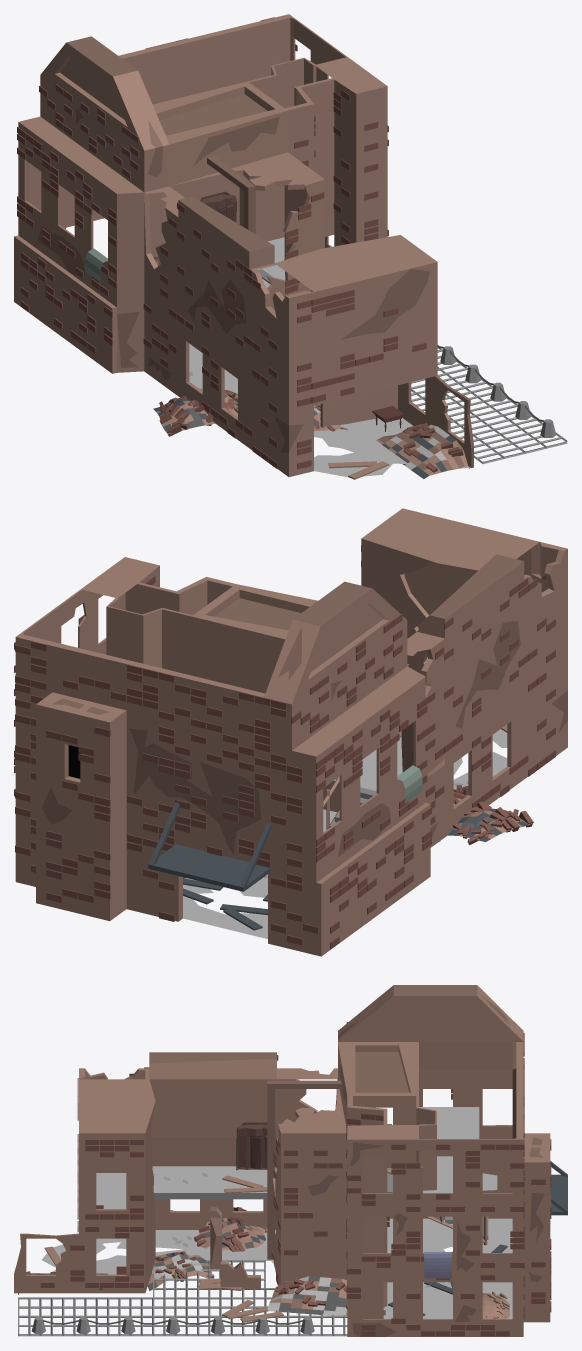
The model's file is Ruined_Block.fbx.
3 renders of one model, top to bottom at view 1: azimuth 30°, elevation 25°; view 2: azimuth 150°, elevation 25°; view 3: azimuth 270°, elevation 25°, orthographic. The views are drawn at different scales.
Parts seen in each view (by area): view 1: Top, Bottom, Floor; view 2: Top, Bottom, Floor; view 3: Top, Bottom, Floor.
Part boxes in pixels (x1,y1,x2,y2): Top: (17,14,437,411); Bottom: (14,185,567,479); Floor: (187,255,437,409); Top: (14,508,567,883); Bottom: (15,620,567,956); Floor: (326,657,567,802); Top: (77,985,551,1281); Bottom: (14,1122,567,1336); Floor: (96,1166,276,1208).
Size of the model in its own units: 11.66 by 10.62 by 20.95.
